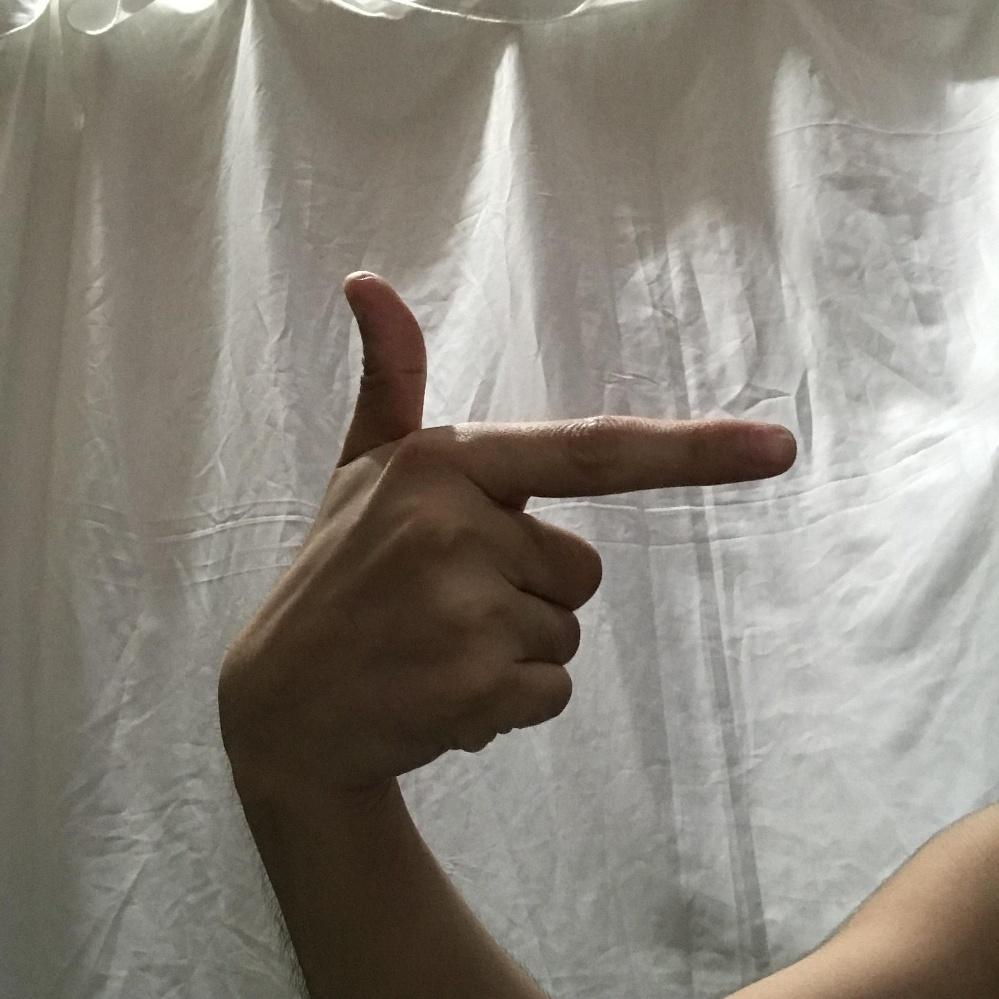g: (234, 270, 802, 782)
